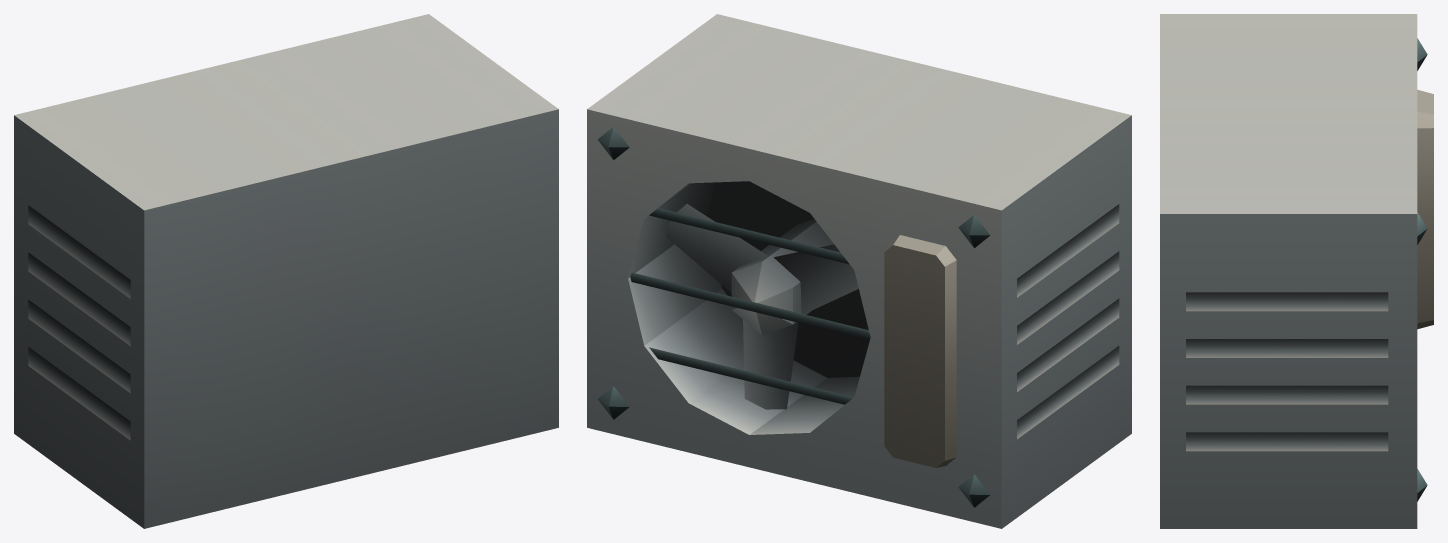
File: Air_Conditioner_1A.fbx
3 renders of one model, left to right at view 1: azimuth 30°, elevation 25°; view 2: azimuth 150°, elevation 25°; view 3: azimuth 270°, elevation 25°, orthographic.
Visible parts, largest first — view 1: Air_Conditioner_1A; view 2: Air_Conditioner_1A, Fan; view 3: Air_Conditioner_1A.
Boxes of the visible parts, x1,y1,x2,y2 form: Air_Conditioner_1A: (14,14,558,528); Air_Conditioner_1A: (587,14,1131,528); Fan: (666,204,858,409); Air_Conditioner_1A: (1160,14,1433,528).
Size of the model in its own units: 1.84 by 1.35 by 1.06.
